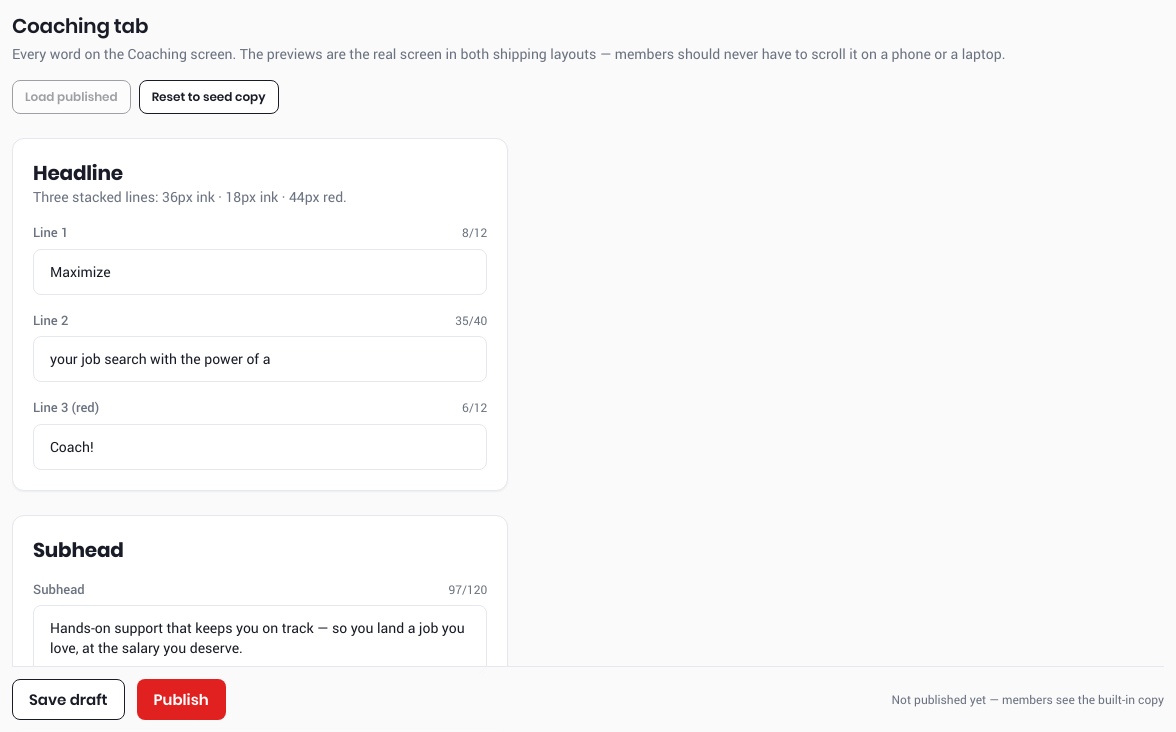
it: Admin → Coaching tab › surfaces server-side publish rejections
The image size is (1176, 732).
Expected: the field labelled "Line 1" holds "Maximize", [33,248,487,294]
Click the button "Publish" at coordinates (181, 700), box [136,679,226,720]
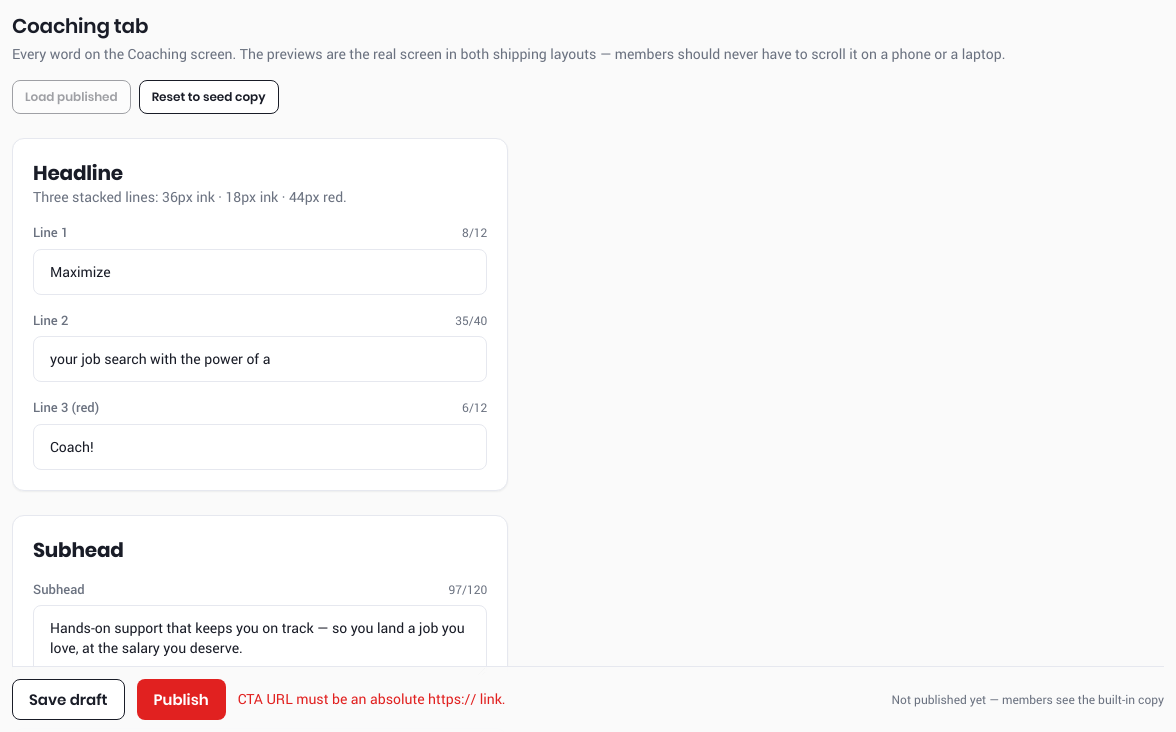
Result: the text "CTA URL must be an absolute https:// link." is shown at [238,690,506,710]
